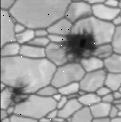good_void: (56, 23, 105, 70), (5, 78, 31, 107)
